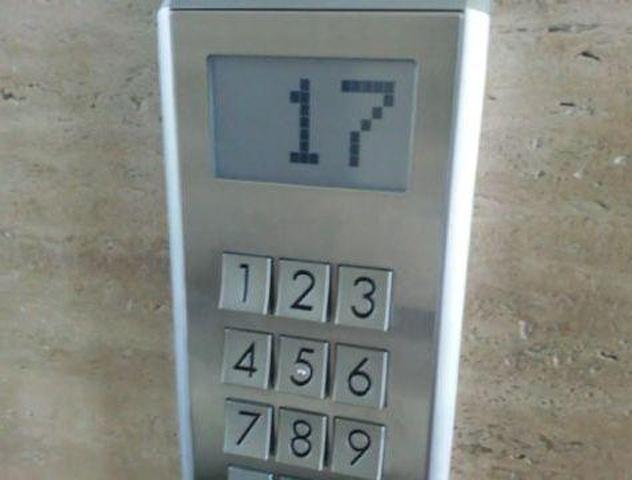1: (217, 248, 271, 317)
2: (273, 255, 332, 324)
3: (331, 262, 392, 333)
4: (219, 323, 270, 389)
5: (273, 331, 328, 403)
6: (328, 337, 388, 410)
7: (219, 395, 272, 462)
8: (272, 406, 326, 472)
9: (329, 415, 384, 479)
led: (205, 50, 419, 194)
